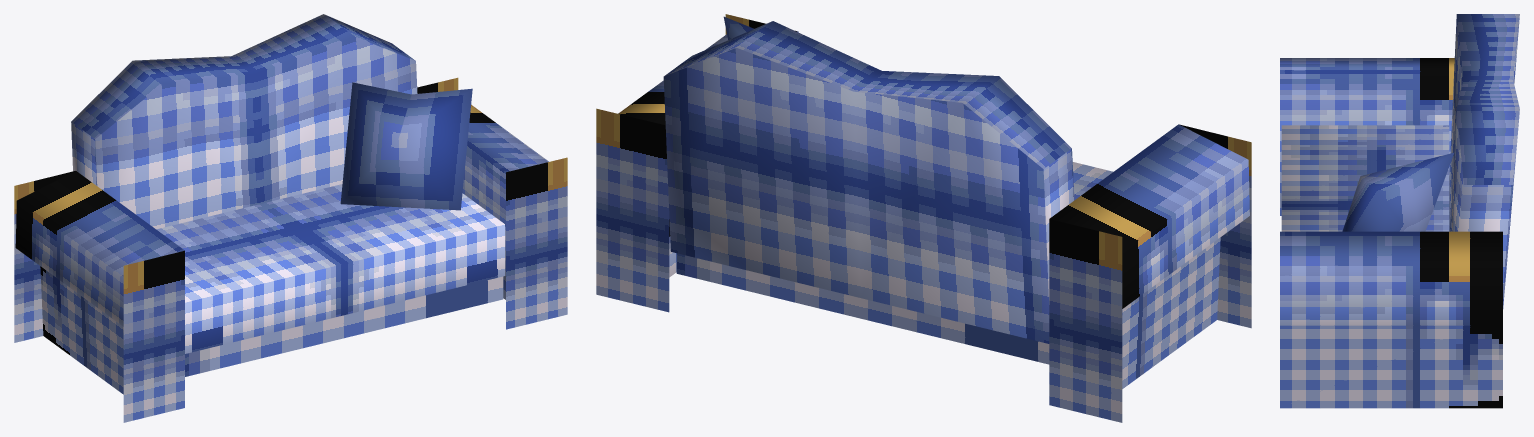
3 views of the same model, side by side, from view 1: azimuth 30°, elevation 25°; view 2: azimuth 150°, elevation 25°; view 3: azimuth 270°, elevation 25° (orthographic). The views are drawn at different scales.
Parts seen in each view (by area): view 1: 3071IMRL04_14; view 2: 3071IMRL04_14; view 3: 3071IMRL04_14.
Part boxes in pixels (x1,y1,x2,y2): 3071IMRL04_14: (14,14,567,422); 3071IMRL04_14: (596,14,1251,422); 3071IMRL04_14: (1280,14,1519,408).
Size of the model in its own units: 1.95 by 1.03 by 0.8948.
1 material, 1 textured.
